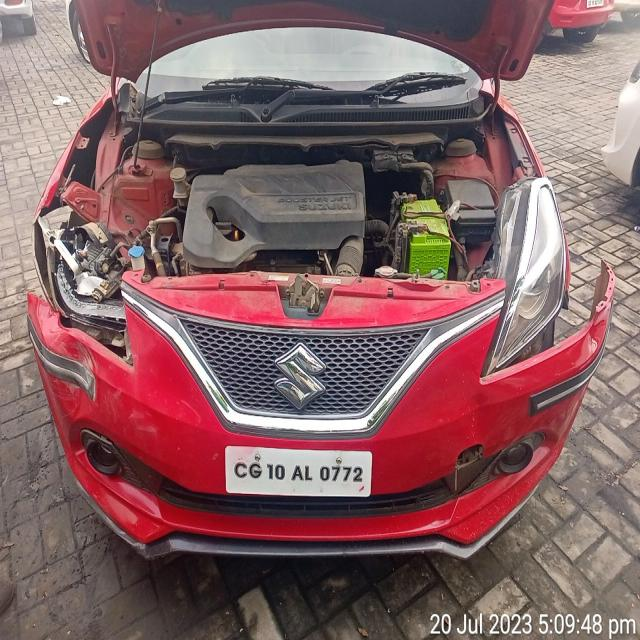damage: (34, 205, 143, 339), (536, 251, 618, 391), (54, 340, 117, 450), (451, 444, 486, 472)
